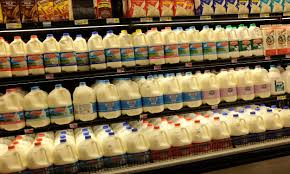milk: (97, 78, 121, 124), (121, 76, 144, 119), (141, 75, 167, 113), (50, 87, 76, 123), (72, 83, 97, 120), (1, 89, 24, 127), (78, 136, 102, 172), (103, 133, 127, 168), (26, 88, 50, 123), (54, 140, 79, 173), (170, 125, 193, 160), (150, 126, 172, 162), (128, 129, 151, 163), (164, 74, 184, 112), (185, 71, 204, 110), (90, 33, 108, 74), (43, 36, 61, 75), (229, 115, 250, 148), (11, 39, 28, 79), (105, 32, 122, 72), (194, 120, 213, 155), (28, 144, 50, 174), (73, 35, 90, 73), (212, 118, 231, 152), (189, 25, 204, 67), (2, 147, 25, 174), (246, 112, 267, 141), (205, 71, 222, 106), (219, 68, 236, 103), (148, 30, 164, 67), (254, 65, 270, 102), (30, 38, 43, 81), (238, 67, 253, 103), (62, 33, 74, 77), (134, 31, 149, 66), (265, 109, 282, 139), (227, 26, 240, 62), (166, 32, 180, 65), (216, 26, 228, 64), (204, 27, 217, 62), (1, 36, 10, 76), (239, 26, 250, 57), (37, 132, 51, 142), (15, 137, 26, 144)
